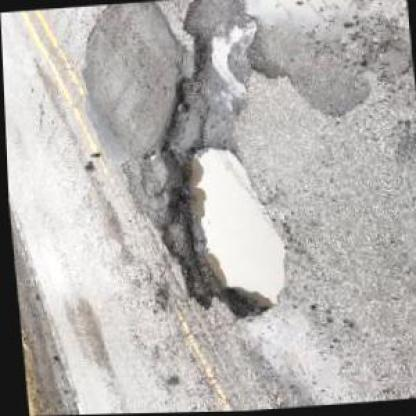pothole: (143, 136, 290, 324)
